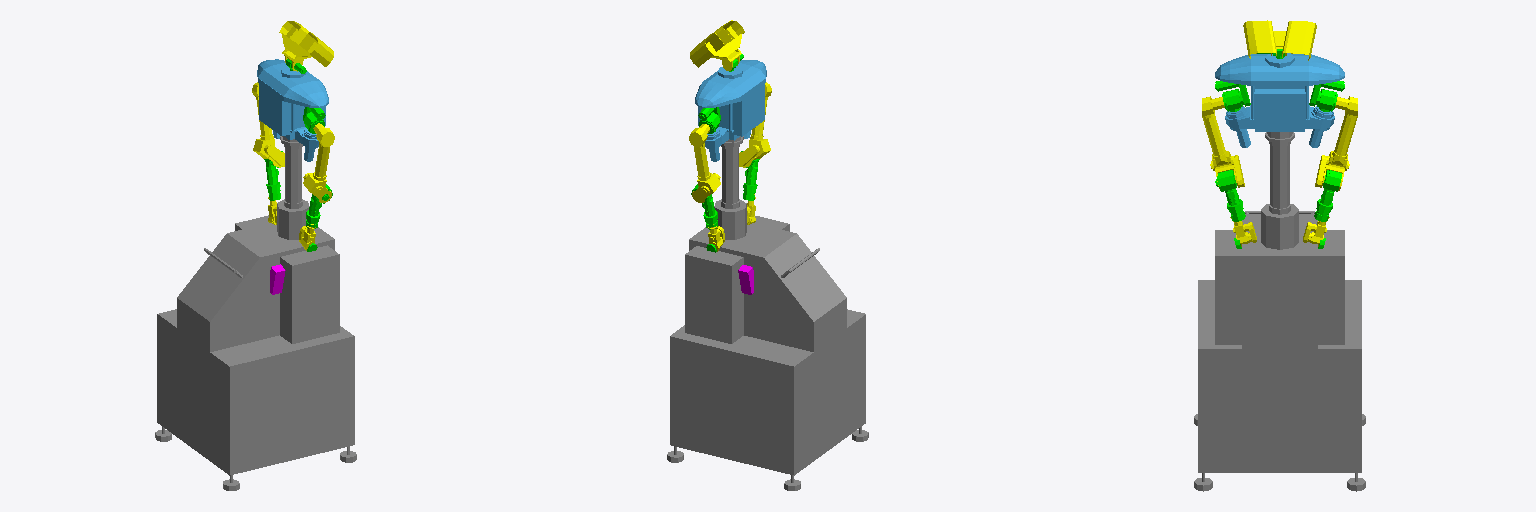
--- What the picture shows (computed from the rendered views, not written in the file) ---
Views: 3 orthographic renders of the robot side by side, from view 1: azimuth 30°, elevation 25°; view 2: azimuth 150°, elevation 25°; view 3: azimuth 270°, elevation 25°.
Robot: hiro — 18 links, 17 joints (15 revolute, 2 fixed); root link link_base; default pose: all joints at 0.
Visible links, largest first — view 1: link_base, link_chest_yaw, link_neck_pitch, link_rshoulder_pitch, link_lshoulder_pitch; view 2: link_base, link_chest_yaw, link_neck_pitch, link_lshoulder_pitch, link_rshoulder_pitch; view 3: link_base, link_chest_yaw, link_neck_pitch, link_lshoulder_pitch, link_rshoulder_pitch, link_relbow_pitch, link_lelbow_pitch, link_rshoulder_yaw, link_lshoulder_yaw.
Link boxes in pixels (x1,y1,x2,y2): link_base: (155,136,356,490); link_chest_yaw: (257,59,328,161); link_neck_pitch: (279,21,333,71); link_rshoulder_pitch: (303,123,334,202); link_lshoulder_pitch: (252,82,284,167); link_base: (667,136,868,490); link_chest_yaw: (695,60,766,161); link_neck_pitch: (690,20,744,70); link_lshoulder_pitch: (689,124,720,202); link_rshoulder_pitch: (739,82,771,167); link_base: (1194,132,1365,491); link_chest_yaw: (1215,53,1344,147); link_neck_pitch: (1243,20,1316,60); link_lshoulder_pitch: (1315,96,1357,190); link_rshoulder_pitch: (1202,96,1244,188); link_relbow_pitch: (1215,170,1245,221); link_lelbow_pitch: (1314,170,1341,221); link_rshoulder_yaw: (1215,81,1250,111); link_lshoulder_yaw: (1309,81,1344,111).
Bounding box of the posed robot: 0.5394 × 0.529 × 1.56 m (x, y, z).
Meshes: 14 distinct files referenced, 14 mesh visuals loaded (14 binary STL).

URDF robot description (hiro):
<?xml version="1.0" ?>
<!-- =================================================================================== -->
<!-- |    This document was autogenerated by xacro from [local-path]/hiroken-ros-pkg/hiro_common/urdf/hiro.urdf.xacro | -->
<!-- |    EDITING THIS FILE BY HAND IS NOT RECOMMENDED                                 | -->
<!-- =================================================================================== -->
<robot name="hiro" xmlns:xacro="http://www.ros.org/wiki/xacro">
  <material name="Blue">
    <color rgba="0.0 0.0 0.8 1.0"/>
  </material>
  <material name="Green">
    <color rgba="0.0 0.8 0.0 1.0"/>
  </material>
  <material name="Grey">
    <color rgba="0.7 0.7 0.7 1.0"/>
  </material>
  <material name="Grey2">
    <color rgba="0.9 0.9 0.9 1.0"/>
  </material>
  <material name="Red">
    <color rgba="0.8 0.0 0.0 1.0"/>
  </material>
  <material name="White">
    <color rgba="1.0 1.0 1.0 1.0"/>
  </material>
  <material name="Black">
    <color rgba="0.1 0.1 0.1 1.0"/>
  </material>
  <material name="LightGrey">
    <color rgba="0.6 0.6 0.6 1.0"/>
  </material>
  <material name="white">
    <color rgba="1 1 1 1"/>
  </material>
  <material name="yellow">
    <color rgba="1 1 0 1"/>
  </material>
  <material name="magenta">
    <color rgba="1 0 1 1"/>
  </material>
  <material name="red">
    <color rgba="1 0 0 1"/>
  </material>
  <material name="cyan">
    <color rgba="0 1 1 1"/>
  </material>
  <material name="green">
    <color rgba="0 1 0 1"/>
  </material>
  <material name="blue">
    <color rgba="0 0 1 1"/>
  </material>
  <material name="black">
    <color rgba="0 0 0 1"/>
  </material>
  <material name="violet">
    <color rgba="0.6 0 1 1"/>
  </material>
  <material name="orange">
    <color rgba="1 0.6 0 1"/>
  </material>
  <material name="grey">
    <color rgba="0.6 0.6 0.6 1"/>
  </material>
  <material name="spring_green">
    <color rgba="0 1 0.498 1"/>
  </material>
  <material name="chartreuse">
    <color rgba="0.498 1 0 1"/>
  </material>
  <material name="olive_drab">
    <color rgba="0.753 1 0.243 1"/>
  </material>
  <material name="chest_red">
    <texture filename="package://hiro_common/materials/textures/chest_texture.png"/>
  </material>
  <material name="chest_red_2">
    <texture filename="package://hiro_common/materials/textures/chest_texture_2.png"/>
  </material>
  <material name="chest_red_3">
    <texture filename="package://hiro_common/materials/textures/chest_texture_4.jpg"/>
  </material>
  <link name="link_base">
    <inertial>
      <origin xyz="-0.00038809 0.00000166 1.06466017"/>
      <mass value="93.11081000"/>
      <!-- momentsOfInertia [0.03473180 0.00000578 -0.00003341; 0.00000578 0.03474816 0.00000063; -0.00003343 0.00000062 0.00438238] -->
      <inertia ixx="0.03473180" ixy="0.00000578" ixz="-0.00003341" iyy="0.03474816" iyz="0.00000063" izz="0.00438238"/>
    </inertial>
    <visual>
      <geometry>
        <mesh filename="package://hiro_common/meshes/base.stl"/>
        <!--cylinder length="${base_height+torso_height}" radius="0.030"/-->
      </geometry>
      <origin rpy="0 -1.57079632679 -1.57079632679" xyz="0 0 0.9"/>
      <!--origin xyz="0 0 ${(base_height+torso_height)/2}" rpy="0 0 0"/-->
      <material name="grey"/>
    </visual>
    <collision>
      <geometry>
        <!--mesh filename="package://hiro_common/meshes/base.stl"/-->
        <!--cylinder length="${base_height+torso_height}" radius="0.030"/-->
        <cylinder length="0.3" radius="0.030"/>
      </geometry>
      <!--origin xyz="0 0 ${base_height}" rpy="0 ${-0.5*pi} ${-0.5*pi}"/-->
      <!--origin xyz="0 0 ${(base_height+torso_height)/2}" rpy="0 0 0"/-->
      <origin rpy="0 0 0" xyz="0 0 1.05"/>
      <!--This is safer because this collision model is above the table (not in collision)-->
    </collision>
  </link>
  <gazebo reference="link_base">
    <material>Gazebo/Red</material>
    <mu1 value="100.0"/>
    <mu2 value="100.0"/>
    <kp value="1000000.0"/>
    <kd value="1.0"/>
    <turnGravityOff>true</turnGravityOff>
  </gazebo>
  <joint name="joint_chest_yaw" type="revolute">
    <parent link="link_base"/>
    <child link="link_chest_yaw"/>
    <origin rpy="0 0 0" xyz="0 0 0.9"/>
    <axis xyz="0 0 1"/>
    <limit effort="1000.0" lower="-2.967059725" upper="2.967059725" velocity="0.5"/>
    <!--safety_controller  soft_lower_limit="${-170*rad_per_deg}" soft_upper_limit="${170*rad_per_deg}" k_position="0" k_velocity="0" /-->
    <!-- rotorInertia	1.12e-01 -->
    <dynamics damping="0.0" friction="0.0"/>
  </joint>
  <link name="link_chest_yaw">
    <inertial>
      <origin xyz="-0.00493378 -0.00097682 0.34405202"/>
      <mass value="6.20761000"/>
      <!-- momentsOfInertia [0.06395752 -0.00022833 0.00011172; -0.00022833 0.03108451 0.00006480; 0.00011172 0.00006480 0.05011067] -->
      <inertia ixx="0.06395752" ixy="-0.00022833" ixz="0.00011172" iyy="0.03108451" iyz="0.00006480" izz="0.05011067"/>
    </inertial>
    <visual>
      <geometry>
        <mesh filename="package://hiro_common/meshes/cy.stl"/>
      </geometry>
      <origin xyz="0 0 0"/>
      <!--material name="magenta"/-->
      <material name="chest_red_3"/>
    </visual>
    <collision>
      <geometry>
        <mesh filename="package://hiro_common/meshes/cy.stl"/>
      </geometry>
      <origin xyz="0 0 0"/>
    </collision>
  </link>
  <gazebo reference="link_chest_yaw">
    <material>Gazebo/Red</material>
    <turnGravityOff>true</turnGravityOff>
  </gazebo>
  <joint name="joint_head_yaw" type="revolute">
    <parent link="link_chest_yaw"/>
    <child link="link_neck_yaw"/>
    <origin rpy="0 0 0" xyz="0.0 0 0.5495"/>
    <!-- rotation 0 0 1 0 -->
    <axis xyz="0 0 1"/>
    <limit effort="1000.0" lower="-2.8797932625" upper="2.8797932625" velocity="0.5"/>
    <safety_controller k_position="0" k_velocity="0" soft_lower_limit="-2.7925268" soft_upper_limit="2.7925268"/>
    <dynamics damping="0.0" friction="0.0"/>
  </joint>
  <link name="link_neck_yaw">
    <inertial>
      <origin xyz="-0.00002292 0.00547848 -0.00784016"/>
      <mass value="0.31792900"/>
      <!-- momentsOfInertia [0.00027682 0.00000003 -0.00000033; 0.00000003 0.00013009 -0.00001092; -0.00000033 -0.00001092 0.00020954] -->
      <inertia ixx="0.00027682" ixy="0.00000003" ixz="-0.00000033" iyy="0.00013009" iyz="-0.00001092" izz="0.00020954"/>
    </inertial>
    <visual>
      <geometry>
        <mesh filename="package://hiro_common/meshes/ny.stl"/>
      </geometry>
      <origin rpy="0 0 0" xyz="0 0 0"/>
      <material name="green"/>
    </visual>
    <collision>
      <geometry>
        <mesh filename="package://hiro_common/meshes/ny.stl"/>
      </geometry>
      <origin rpy="0 0 0" xyz="0 0 0"/>
    </collision>
  </link>
  <gazebo reference="link_neck_yaw">
    <material>Gazebo/Red</material>
    <turnGravityOff>true</turnGravityOff>
  </gazebo>
  <joint name="joint_head_pitch" type="revolute">
    <parent link="link_neck_yaw"/>
    <child link="link_neck_pitch"/>
    <origin rpy="0 0 0" xyz="0 0 0"/>
    <!-- rotation 0 1 0 0 -->
    <axis xyz="0 1 0"/>
    <limit effort="1000.0" lower="-0.872664625" upper="0.872664625" velocity="0.5"/>
    <safety_controller k_position="0" k_velocity="0" soft_lower_limit="-0.7853981625" soft_upper_limit="0.7853981625"/>
    <dynamics damping="0.0" friction="0.0"/>
  </joint>
  <link name="link_neck_pitch">
    <inertial>
      <origin xyz="0.00000502 -0.01667768 0.01631533"/>
      <mass value="0.08085931"/>
      <!-- momentsOfInertia [0.00008070 -0.00000003 -0.00000000; -0.00000003 0.00003025 -0.00001277; -0.00000000 -0.00001277 0.00006637] -->
      <inertia ixx="0.00008070" ixy="-0.00000003" ixz="-0.00000000" iyy="0.00003025" iyz="-0.00001277" izz="0.00006637"/>
    </inertial>
    <visual>
      <geometry>
        <mesh filename="package://hiro_common/meshes/np.stl"/>
      </geometry>
      <origin rpy="0 0 0" xyz="0 0 0"/>
      <material name="yellow"/>
    </visual>
    <collision>
      <geometry>
        <mesh filename="package://hiro_common/meshes/np.stl"/>
      </geometry>
      <origin rpy="0 0 0" xyz="0 0 0"/>
    </collision>
  </link>
  <gazebo reference="link_neck_pitch">
    <material>Gazebo/Red</material>
    <turnGravityOff>true</turnGravityOff>
  </gazebo>
  <joint name="joint_rshoulder_yaw" type="revolute">
    <parent link="link_chest_yaw"/>
    <child link="link_rshoulder_yaw"/>
    <origin rpy="0.261799 0 0" xyz="0.000 -0.145 0.380"/>
    <!-- rotation   1 0 0  0.261799 -->
    <axis xyz="0 0 1"/>
    <limit effort="1000.0" lower="-1.570796325" upper="1.570796325" velocity="0.5"/>
    <!--safety_controller  soft_lower_limit="${-85*rad_per_deg}" soft_upper_limit="${85*rad_per_deg}" k_position="0" k_velocity="0" /-->
    <!-- rotorInertia	1.12e-01 -->
    <dynamics damping="0.0" friction="0.0"/>
  </joint>
  <link name="link_rshoulder_yaw">
    <inertial>
      <origin xyz="-0.00226388 0.00521383 0.01560807"/>
      <mass value="1.32626000"/>
      <!-- momentsOfInertia [0.00207537 -0.00011276 0.00008927; -0.00011276 0.00240295 0.00004570; 0.00008927 0.00004570 0.00141912] -->
      <inertia ixx="0.00207537" ixy="-0.00011276" ixz="0.00008927" iyy="0.00240295" iyz="4.57e-05" izz="0.00141912"/>
    </inertial>
    <visual>
      <geometry>
        <mesh filename="package://hiro_common/meshes/rsy.stl"/>
      </geometry>
      <origin rpy="0 0 0" xyz="0 0 0"/>
      <material name="green"/>
    </visual>
    <collision>
      <geometry>
        <mesh filename="package://hiro_common/meshes/rsy.stl"/>
      </geometry>
      <origin rpy="0 0 0" xyz="0 0 0"/>
    </collision>
  </link>
  <gazebo reference="link_rshoulder_yaw">
    <material>Gazebo/Red</material>
    <turnGravityOff>true</turnGravityOff>
  </gazebo>
  <joint name="joint_rshoulder_pitch" type="revolute">
    <parent link="link_rshoulder_yaw"/>
    <child link="link_rshoulder_pitch"/>
    <origin rpy="0 0 0" xyz="0 0 0"/>
    <axis xyz="0 1 0"/>
    <limit effort="1000.0" lower="-3.14159265" upper="2.0943951" velocity="0.5"/>
    <!--safety_controller  soft_lower_limit="${-175*rad_per_deg}" soft_upper_limit="${115*rad_per_deg}" k_position="0" k_velocity="0" /-->
    <!-- rotorInertia	1.68e-01 -->
    <dynamics damping="0.0" friction="0.0"/>
  </joint>
  <link name="link_rshoulder_pitch">
    <inertial>
      <origin xyz="-0.00005236 -0.05831338 -0.10706059"/>
      <mass value="1.14898000"/>
      <!-- momentsOfInertia [0.01541678 -0.00000097 0.00000352; -0.00000098 0.01471175 -0.00213705; 0.00000351 -0.00213704 0.00126575] -->
      <inertia ixx="0.01541678" ixy="-9.7e-07" ixz="0.00000352" iyy="0.01471175" iyz="-0.00213705" izz="0.00126575"/>
    </inertial>
    <visual>
      <geometry>
        <mesh filename="package://hiro_common/meshes/rsp.stl"/>
      </geometry>
      <origin rpy="0 0 0" xyz="0 0 0"/>
      <material name="yellow"/>
    </visual>
    <collision>
      <geometry>
        <mesh filename="package://hiro_common/meshes/rsp.stl"/>
      </geometry>
      <origin rpy="0 0 0" xyz="0 0 0"/>
    </collision>
  </link>
  <gazebo reference="link_rshoulder_pitch">
    <material>Gazebo/Yellow</material>
    <turnGravityOff>true</turnGravityOff>
  </gazebo>
  <joint name="joint_relbow_pitch" type="revolute">
    <parent link="link_rshoulder_pitch"/>
    <child link="link_relbow_pitch"/>
    <origin rpy="0 0 0" xyz="0.020 -0.085 -0.250"/>
    <axis xyz="0 1 0"/>
    <limit effort="1000.0" lower="-2.7925268" upper="0.174532925" velocity="0.5"/>
    <!--safety_controller  soft_lower_limit="${-155*rad_per_deg}" soft_upper_limit="${0*rad_per_deg}" k_position="0" k_velocity="0" /-->
    <!-- rotorInertia	6.00e-02 -->
    <dynamics damping="0.0" friction="0.0"/>
  </joint>
  <link name="link_relbow_pitch">
    <inertial>
      <origin xyz="-0.00002254 -0.00167107 -0.07151163"/>
      <mass value="0.57751838"/>
      <!-- momentsOfInertia [0.00143966 0.00000030 0.00000120; 0.00000030 0.00141763 0.00007596; 0.00000120 0.00007596 0.00019720] -->
      <inertia ixx="0.00143966" ixy="3e-07" ixz="0.00000120" iyy="0.00141763" iyz="7.596e-05" izz="0.00019720"/>
    </inertial>
    <visual>
      <geometry>
        <mesh filename="package://hiro_common/meshes/rep.stl"/>
      </geometry>
      <origin rpy="0 0 0" xyz="0 0 0"/>
      <material name="green"/>
    </visual>
    <collision>
      <geometry>
        <mesh filename="package://hiro_common/meshes/rep.stl"/>
        <turnGravityOff>true</turnGravityOff>
      </geometry>
      <origin rpy="0 0 0" xyz="0 0 0"/>
    </collision>
  </link>
  <gazebo reference="link_relbow_pitch">
    <material>Gazebo/Yellow</material>
  </gazebo>
  <joint name="joint_rwrist_yaw" type="revolute">
    <parent link="link_relbow_pitch"/>
    <child link="link_rwrist_yaw"/>
    <origin rpy="0 0 0" xyz="-0.02 0.0 -0.22"/>
    <axis xyz="0 0 1"/>
    <limit effort="1000.0" lower="-3.4033920375" upper="2.3561944875" velocity="0.5"/>
    <!--safety_controller  soft_lower_limit="${-190*rad_per_deg}" soft_upper_limit="${130*rad_per_deg}" k_position="0" k_velocity="0" /-->
    <!-- rotorInertia	3.74e-03 -->
    <dynamics damping="0.0" friction="0.0"/>
  </joint>
  <link name="link_rwrist_yaw">
    <inertial>
      <origin xyz="-0.00001788 0.00395812 -0.20273050"/>
      <mass value="0.45741788"/>
      <!-- momentsOfInertia [0.00069205 -0.00000003 0.00000052; -0.00000003 0.00068903 0.00001915; 0.00000052 0.00001915 0.00013509] -->
      <inertia ixx="0.00069205" ixy="-3e-08" ixz="0.00000052" iyy="0.00068903" iyz="1.915e-05" izz="0.00013509"/>
    </inertial>
    <visual>
      <geometry>
        <mesh filename="package://hiro_common/meshes/rwy.stl"/>
      </geometry>
      <origin rpy="0 0 0" xyz="0 0 0"/>
      <material name="yellow"/>
    </visual>
    <collision>
      <geometry>
        <mesh filename="package://hiro_common/meshes/rwy.stl"/>
      </geometry>
      <origin rpy="0 0 0" xyz="0 0 0"/>
    </collision>
  </link>
  <gazebo reference="link_rwrist_yaw">
    <material>Gazebo/Yellow</material>
    <turnGravityOff>false</turnGravityOff>
  </gazebo>
  <joint name="joint_rwrist_pitch" type="revolute">
    <parent link="link_rwrist_yaw"/>
    <child link="link_rwrist_pitch"/>
    <origin rpy="0 0 0" xyz="0 0 0"/>
    <axis xyz="0 1 0"/>
    <limit effort="1000.0" lower="-1.74532925" upper="1.74532925" velocity="0.5"/>
    <!--safety_controller  soft_lower_limit="${-95*rad_per_deg}" soft_upper_limit="${95*rad_per_deg}" k_position="0" k_velocity="0" /-->
    <!-- rotorInertia	1.50e-02 -->
    <dynamics damping="0.0" friction="0.0"/>
  </joint>
  <link name="link_rwrist_pitch">
    <inertial>
      <origin xyz="0.00243131 -0.00379733 -0.05770359"/>
      <mass value="0.41843443"/>
      <!-- momentsOfInertia [0.00052016 -0.00000169 0.00000790; -0.00000169 0.00050569 0.00005377; 0.00000790 0.00005377 0.00014004] -->
      <inertia ixx="0.00052016" ixy="-1.69e-06" ixz="0.00000790" iyy="0.00050569" iyz="5.377e-05" izz="0.00014004"/>
    </inertial>
    <visual>
      <geometry>
        <mesh filename="package://hiro_common/meshes/rwp.stl"/>
      </geometry>
      <origin rpy="0 0 0" xyz="0 0 0"/>
      <material name="green"/>
    </visual>
    <collision>
      <geometry>
        <mesh filename="package://hiro_common/meshes/rwp.stl"/>
      </geometry>
      <origin rpy="0 0 0" xyz="0 0 0"/>
    </collision>
  </link>
  <gazebo reference="link_rwrist_pitch">
    <material>Gazebo/Yellow</material>
    <turnGravityOff>true</turnGravityOff>
  </gazebo>
  <joint name="joint_rwrist_roll" type="revolute">
    <parent link="link_rwrist_pitch"/>
    <child link="link_rwrist_roll"/>
    <!--origin xyz="0.0  0.0 -0.090" rpy="0 0 0"/-->
    <origin rpy="0 0 0" xyz="-0.025  0.0 -0.090"/>
    <axis xyz="1 0 0"/>
    <limit effort="1000.0" lower="-2.268928025" upper="2.268928025" velocity="0.5"/>
    <!--safety_controller  soft_lower_limit="${-125*rad_per_deg}" soft_upper_limit="${125*rad_per_deg}" k_position="0" k_velocity="0" /-->
    <!-- rotorInertia	7.56e-03 -->
    <dynamics damping="0.0" friction="0.0"/>
  </joint>
  <link name="link_rwrist_roll">
    <inertial>
      <origin xyz="-0.04847597 3.2e-06 -0.03889875"/>
      <mass value="1.05156000"/>
      <!-- momentsOfInertia [0.00194072 -0.00000011 -0.00042482; -0.00000011 0.00209392 -0.00000012; -0.00042482 -0.00000012 0.00035788] -->
      <inertia ixx="0.00194072" ixy="-1.1e-07" ixz="-0.00042482" iyy="0.00209392" iyz="-1.2e-07" izz="0.00035788"/>
    </inertial>
    <visual>
      <geometry>
        <!--mesh filename="package://hiro_common/meshes/wr.stl"/-->
        <box size="0.010 0.055 0.070"/>
      </geometry>
      <origin rpy="0 0 0" xyz="0 0 0"/>
      <material name="yellow"/>
    </visual>
    <collision>
      <geometry>
        <!--mesh filename="package://hiro_common/meshes/wr.stl"/-->
        <box size="0.010 0.055 0.070"/>
      </geometry>
      <origin rpy="0 0 0" xyz="0 0 0"/>
    </collision>
  </link>
  <gazebo reference="link_rwrist_roll">
    <material>Gazebo/Yellow</material>
    <turnGravityOff>false</turnGravityOff>
  </gazebo>
  <joint name="joint_rhand_palm" type="fixed">
    <parent link="link_rwrist_roll"/>
    <child link="link_rhand_palm"/>
    <!--origin xyz="${(-1*(0.130/2))+(-1*(0.010/2))} ${(-1*(0.055/2))+(-1*(0.035/2))} 0" rpy="0 0 0"/-->
    <origin rpy="0 0 0" xyz="-0.07 -0.045 0"/>
    <!-- 
		    Origin x is shifted a half of x-dimension of hand_palm plus a half of x-dimension of link_${side}wrist_roll in the appropriate direction
		    Origin y is shifted a half of y-dimension of hand_palm plus a half of y-dimension of link_${side}wrist_roll in the appropriate direction		    
		  -->
  </joint>
  <link name="link_rhand_palm">
    <visual>
      <geometry>
        <box size="0.130 0.035 0.100"/>
      </geometry>
      <origin xyz="0 0 0"/>
      <material name="magenta"/>
    </visual>
    <collision>
      <geometry>
        <box size="0.130 0.035 0.100"/>
      </geometry>
      <origin xyz="0 0 0"/>
    </collision>
  </link>
  <joint name="joint_lshoulder_yaw" type="revolute">
    <parent link="link_chest_yaw"/>
    <child link="link_lshoulder_yaw"/>
    <origin rpy="-0.261799 0 0" xyz="0.000 0.145 0.380"/>
    <!-- rotation   1 0 0  0.261799 -->
    <axis xyz="0 0 1"/>
    <limit effort="1000.0" lower="-1.570796325" upper="1.570796325" velocity="0.5"/>
    <!--safety_controller  soft_lower_limit="${-85*rad_per_deg}" soft_upper_limit="${85*rad_per_deg}" k_position="0" k_velocity="0" /-->
    <!-- rotorInertia	1.12e-01 -->
    <dynamics damping="0.0" friction="0.0"/>
  </joint>
  <link name="link_lshoulder_yaw">
    <inertial>
      <origin xyz="-0.00226388 -0.00521383 0.01560807"/>
      <mass value="1.32626000"/>
      <!-- momentsOfInertia [0.00207537 -0.00011276 0.00008927; -0.00011276 0.00240295 0.00004570; 0.00008927 0.00004570 0.00141912] -->
      <inertia ixx="0.00207537" ixy="0.00011276" ixz="0.00008927" iyy="0.00240295" iyz="-4.57e-05" izz="0.00141912"/>
    </inertial>
    <visual>
      <geometry>
        <mesh filename="package://hiro_common/meshes/lsy.stl"/>
      </geometry>
      <origin rpy="0 0 0" xyz="0 0 0"/>
      <material name="green"/>
    </visual>
    <collision>
      <geometry>
        <mesh filename="package://hiro_common/meshes/lsy.stl"/>
      </geometry>
      <origin rpy="0 0 0" xyz="0 0 0"/>
    </collision>
  </link>
  <gazebo reference="link_lshoulder_yaw">
    <material>Gazebo/Red</material>
    <turnGravityOff>true</turnGravityOff>
  </gazebo>
  <joint name="joint_lshoulder_pitch" type="revolute">
    <parent link="link_lshoulder_yaw"/>
    <child link="link_lshoulder_pitch"/>
    <origin rpy="0 0 0" xyz="0 0 0"/>
    <axis xyz="0 1 0"/>
    <limit effort="1000.0" lower="-3.14159265" upper="2.0943951" velocity="0.5"/>
    <!--safety_controller  soft_lower_limit="${-175*rad_per_deg}" soft_upper_limit="${115*rad_per_deg}" k_position="0" k_velocity="0" /-->
    <!-- rotorInertia	1.68e-01 -->
    <dynamics damping="0.0" friction="0.0"/>
  </joint>
  <link name="link_lshoulder_pitch">
    <inertial>
      <origin xyz="-0.00005236 0.05831338 -0.10706059"/>
      <mass value="1.14898000"/>
      <!-- momentsOfInertia [0.01541678 -0.00000097 0.00000352; -0.00000098 0.01471175 -0.00213705; 0.00000351 -0.00213704 0.00126575] -->
      <inertia ixx="0.01541678" ixy="9.7e-07" ixz="0.00000352" iyy="0.01471175" iyz="0.00213705" izz="0.00126575"/>
    </inertial>
    <visual>
      <geometry>
        <mesh filename="package://hiro_common/meshes/lsp.stl"/>
      </geometry>
      <origin rpy="0 0 0" xyz="0 0 0"/>
      <material name="yellow"/>
    </visual>
    <collision>
      <geometry>
        <mesh filename="package://hiro_common/meshes/lsp.stl"/>
      </geometry>
      <origin rpy="0 0 0" xyz="0 0 0"/>
    </collision>
  </link>
  <gazebo reference="link_lshoulder_pitch">
    <material>Gazebo/Yellow</material>
    <turnGravityOff>true</turnGravityOff>
  </gazebo>
  <joint name="joint_lelbow_pitch" type="revolute">
    <parent link="link_lshoulder_pitch"/>
    <child link="link_lelbow_pitch"/>
    <origin rpy="0 0 0" xyz="0.020 0.085 -0.250"/>
    <axis xyz="0 1 0"/>
    <limit effort="1000.0" lower="-2.7925268" upper="0.174532925" velocity="0.5"/>
    <!--safety_controller  soft_lower_limit="${-155*rad_per_deg}" soft_upper_limit="${0*rad_per_deg}" k_position="0" k_velocity="0" /-->
    <!-- rotorInertia	6.00e-02 -->
    <dynamics damping="0.0" friction="0.0"/>
  </joint>
  <link name="link_lelbow_pitch">
    <inertial>
      <origin xyz="-0.00002254 0.00167107 -0.07151163"/>
      <mass value="0.57751838"/>
      <!-- momentsOfInertia [0.00143966 0.00000030 0.00000120; 0.00000030 0.00141763 0.00007596; 0.00000120 0.00007596 0.00019720] -->
      <inertia ixx="0.00143966" ixy="-3e-07" ixz="0.00000120" iyy="0.00141763" iyz="-7.596e-05" izz="0.00019720"/>
    </inertial>
    <visual>
      <geometry>
        <mesh filename="package://hiro_common/meshes/lep.stl"/>
      </geometry>
      <origin rpy="0 0 0" xyz="0 0 0"/>
      <material name="green"/>
    </visual>
    <collision>
      <geometry>
        <mesh filename="package://hiro_common/meshes/lep.stl"/>
        <turnGravityOff>true</turnGravityOff>
      </geometry>
      <origin rpy="0 0 0" xyz="0 0 0"/>
    </collision>
  </link>
  <gazebo reference="link_lelbow_pitch">
    <material>Gazebo/Yellow</material>
  </gazebo>
  <joint name="joint_lwrist_yaw" type="revolute">
    <parent link="link_lelbow_pitch"/>
    <child link="link_lwrist_yaw"/>
    <origin rpy="0 0 0" xyz="-0.02 0.0 -0.22"/>
    <axis xyz="0 0 1"/>
    <limit effort="1000.0" lower="-3.4033920375" upper="2.3561944875" velocity="0.5"/>
    <!--safety_controller  soft_lower_limit="${-190*rad_per_deg}" soft_upper_limit="${130*rad_per_deg}" k_position="0" k_velocity="0" /-->
    <!-- rotorInertia	3.74e-03 -->
    <dynamics damping="0.0" friction="0.0"/>
  </joint>
  <link name="link_lwrist_yaw">
    <inertial>
      <origin xyz="-0.00001788 -0.00395812 -0.20273050"/>
      <mass value="0.45741788"/>
      <!-- momentsOfInertia [0.00069205 -0.00000003 0.00000052; -0.00000003 0.00068903 0.00001915; 0.00000052 0.00001915 0.00013509] -->
      <inertia ixx="0.00069205" ixy="3e-08" ixz="0.00000052" iyy="0.00068903" iyz="-1.915e-05" izz="0.00013509"/>
    </inertial>
    <visual>
      <geometry>
        <mesh filename="package://hiro_common/meshes/lwy.stl"/>
      </geometry>
      <origin rpy="0 0 0" xyz="0 0 0"/>
      <material name="yellow"/>
    </visual>
    <collision>
      <geometry>
        <mesh filename="package://hiro_common/meshes/lwy.stl"/>
      </geometry>
      <origin rpy="0 0 0" xyz="0 0 0"/>
    </collision>
  </link>
  <gazebo reference="link_lwrist_yaw">
    <material>Gazebo/Yellow</material>
    <turnGravityOff>false</turnGravityOff>
  </gazebo>
  <joint name="joint_lwrist_pitch" type="revolute">
    <parent link="link_lwrist_yaw"/>
    <child link="link_lwrist_pitch"/>
    <origin rpy="0 0 0" xyz="0 0 0"/>
    <axis xyz="0 1 0"/>
    <limit effort="1000.0" lower="-1.74532925" upper="1.74532925" velocity="0.5"/>
    <!--safety_controller  soft_lower_limit="${-95*rad_per_deg}" soft_upper_limit="${95*rad_per_deg}" k_position="0" k_velocity="0" /-->
    <!-- rotorInertia	1.50e-02 -->
    <dynamics damping="0.0" friction="0.0"/>
  </joint>
  <link name="link_lwrist_pitch">
    <inertial>
      <origin xyz="0.00243131 0.00379733 -0.05770359"/>
      <mass value="0.41843443"/>
      <!-- momentsOfInertia [0.00052016 -0.00000169 0.00000790; -0.00000169 0.00050569 0.00005377; 0.00000790 0.00005377 0.00014004] -->
      <inertia ixx="0.00052016" ixy="1.69e-06" ixz="0.00000790" iyy="0.00050569" iyz="-5.377e-05" izz="0.00014004"/>
    </inertial>
    <visual>
      <geometry>
        <mesh filename="package://hiro_common/meshes/lwp.stl"/>
      </geometry>
      <origin rpy="0 0 0" xyz="0 0 0"/>
      <material name="green"/>
    </visual>
    <collision>
      <geometry>
        <mesh filename="package://hiro_common/meshes/lwp.stl"/>
      </geometry>
      <origin rpy="0 0 0" xyz="0 0 0"/>
    </collision>
  </link>
  <gazebo reference="link_lwrist_pitch">
    <material>Gazebo/Yellow</material>
    <turnGravityOff>true</turnGravityOff>
  </gazebo>
  <joint name="joint_lwrist_roll" type="revolute">
    <parent link="link_lwrist_pitch"/>
    <child link="link_lwrist_roll"/>
    <!--origin xyz="0.0  0.0 -0.090" rpy="0 0 0"/-->
    <origin rpy="0 0 0" xyz="-0.025  0.0 -0.090"/>
    <axis xyz="1 0 0"/>
    <limit effort="1000.0" lower="-2.268928025" upper="2.268928025" velocity="0.5"/>
    <!--safety_controller  soft_lower_limit="${-125*rad_per_deg}" soft_upper_limit="${125*rad_per_deg}" k_position="0" k_velocity="0" /-->
    <!-- rotorInertia	7.56e-03 -->
    <dynamics damping="0.0" friction="0.0"/>
  </joint>
  <link name="link_lwrist_roll">
    <inertial>
      <origin xyz="-0.04847597 -3.2e-06 -0.03889875"/>
      <mass value="1.05156000"/>
      <!-- momentsOfInertia [0.00194072 -0.00000011 -0.00042482; -0.00000011 0.00209392 -0.00000012; -0.00042482 -0.00000012 0.00035788] -->
      <inertia ixx="0.00194072" ixy="1.1e-07" ixz="-0.00042482" iyy="0.00209392" iyz="1.2e-07" izz="0.00035788"/>
    </inertial>
    <visual>
      <geometry>
        <!--mesh filename="package://hiro_common/meshes/wr.stl"/-->
        <box size="0.010 0.055 0.070"/>
      </geometry>
      <origin rpy="0 0 0" xyz="0 0 0"/>
      <material name="yellow"/>
    </visual>
    <collision>
      <geometry>
        <!--mesh filename="package://hiro_common/meshes/wr.stl"/-->
        <box size="0.010 0.055 0.070"/>
      </geometry>
      <origin rpy="0 0 0" xyz="0 0 0"/>
    </collision>
  </link>
  <gazebo reference="link_lwrist_roll">
    <material>Gazebo/Yellow</material>
    <turnGravityOff>false</turnGravityOff>
  </gazebo>
  <joint name="joint_lhand_palm" type="fixed">
    <parent link="link_lwrist_roll"/>
    <child link="link_lhand_palm"/>
    <!--origin xyz="${(-1*(0.130/2))+(-1*(0.010/2))} ${(-1*(0.055/2))+(-1*(0.035/2))} 0" rpy="0 0 0"/-->
    <origin rpy="0 0 0" xyz="-0.07 0.045 0"/>
    <!-- 
		    Origin x is shifted a half of x-dimension of hand_palm plus a half of x-dimension of link_${side}wrist_roll in the appropriate direction
		    Origin y is shifted a half of y-dimension of hand_palm plus a half of y-dimension of link_${side}wrist_roll in the appropriate direction		    
		  -->
  </joint>
  <link name="link_lhand_palm">
    <visual>
      <geometry>
        <box size="0.130 0.035 0.100"/>
      </geometry>
      <origin xyz="0 0 0"/>
      <material name="magenta"/>
    </visual>
    <collision>
      <geometry>
        <box size="0.130 0.035 0.100"/>
      </geometry>
      <origin xyz="0 0 0"/>
    </collision>
  </link>
</robot>
